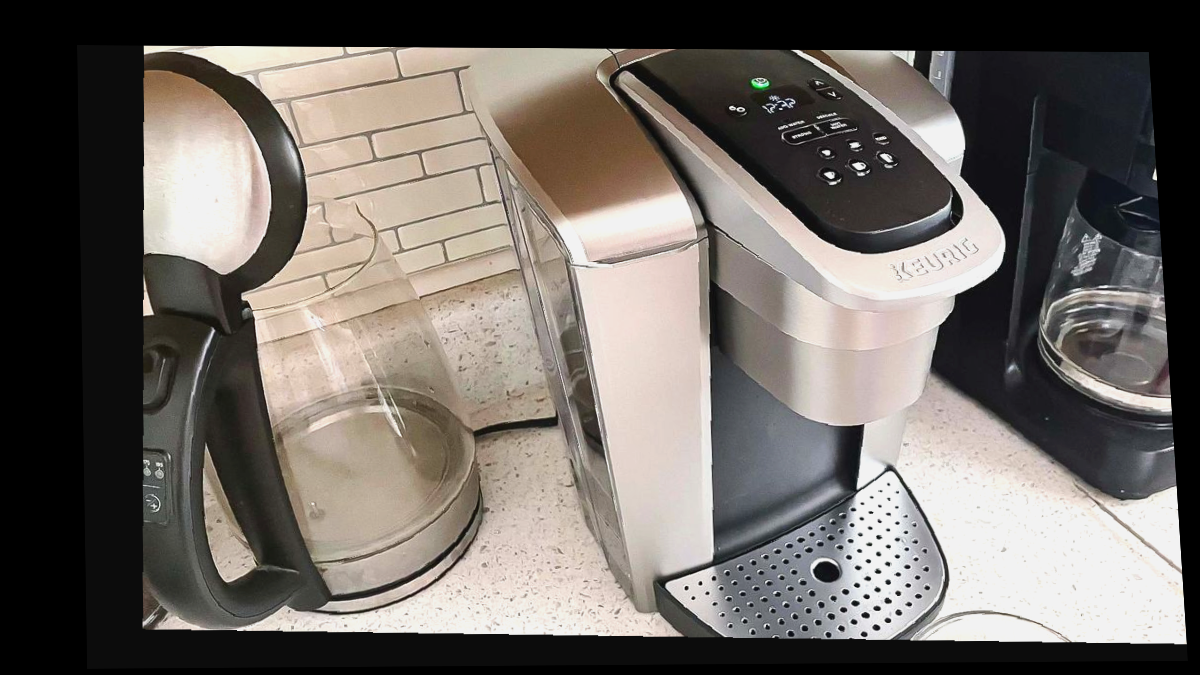10oz: (845, 156, 874, 177)
12oz: (874, 150, 903, 171)
4oz: (816, 144, 838, 160)
6oz: (844, 137, 866, 152)
8oz: (815, 165, 844, 186)
add_water: (772, 106, 814, 135)
descale: (810, 94, 851, 123)
hot: (818, 110, 860, 139)
iced: (870, 130, 892, 146)
power: (749, 73, 773, 91)
strong: (778, 121, 819, 151)
